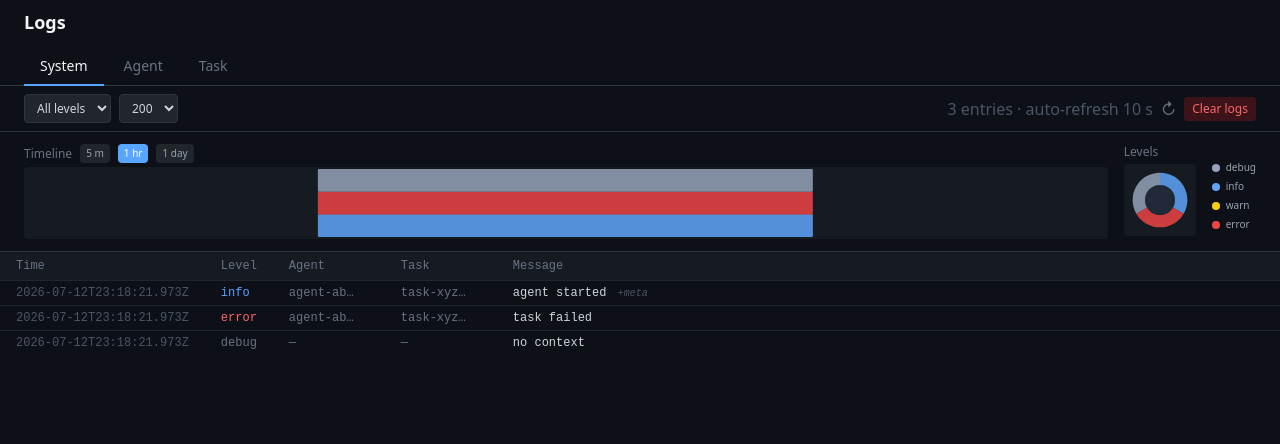
Test case: Logs — expandable context rows › collapses on second click
Check: the text "agent started" is shown, box [513, 286, 614, 300]
Click the text "agent started".
click(640, 293)  # box [0, 280, 1279, 306]
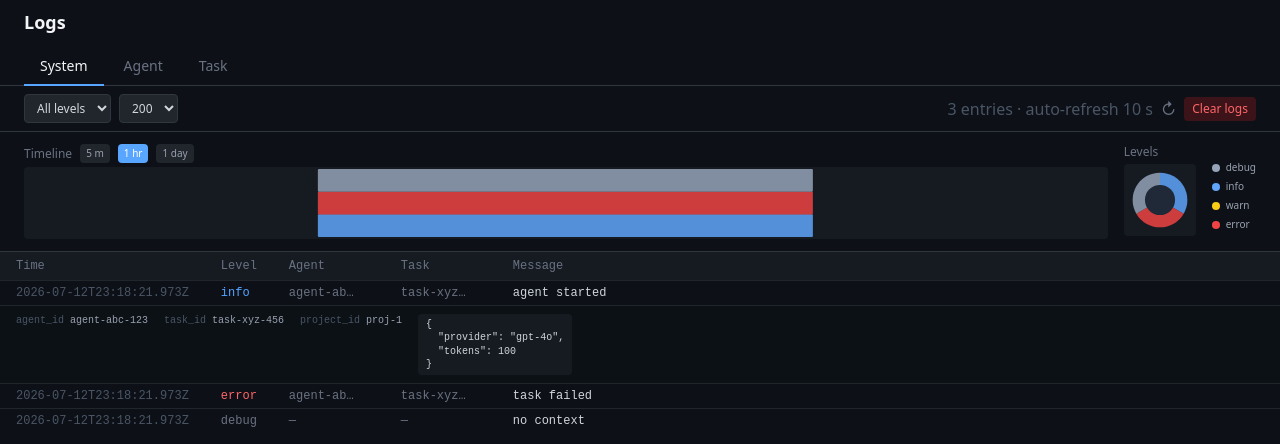
Check: the text "agent-abc-123" is shown, box [64, 315, 148, 326]
Click the text "agent started".
click(640, 293)  # box [0, 280, 1279, 306]
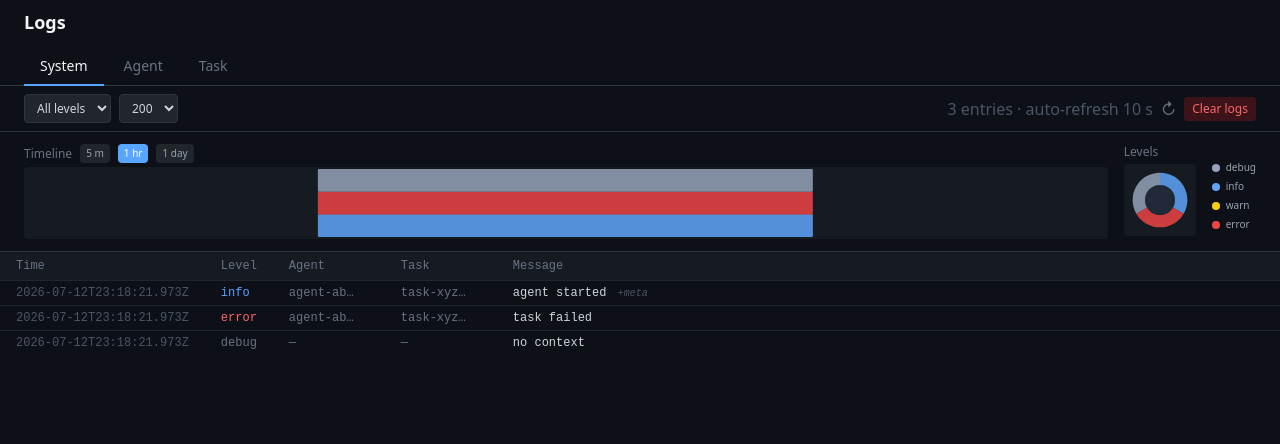
Check: the text "agent-abc-123" is gone
